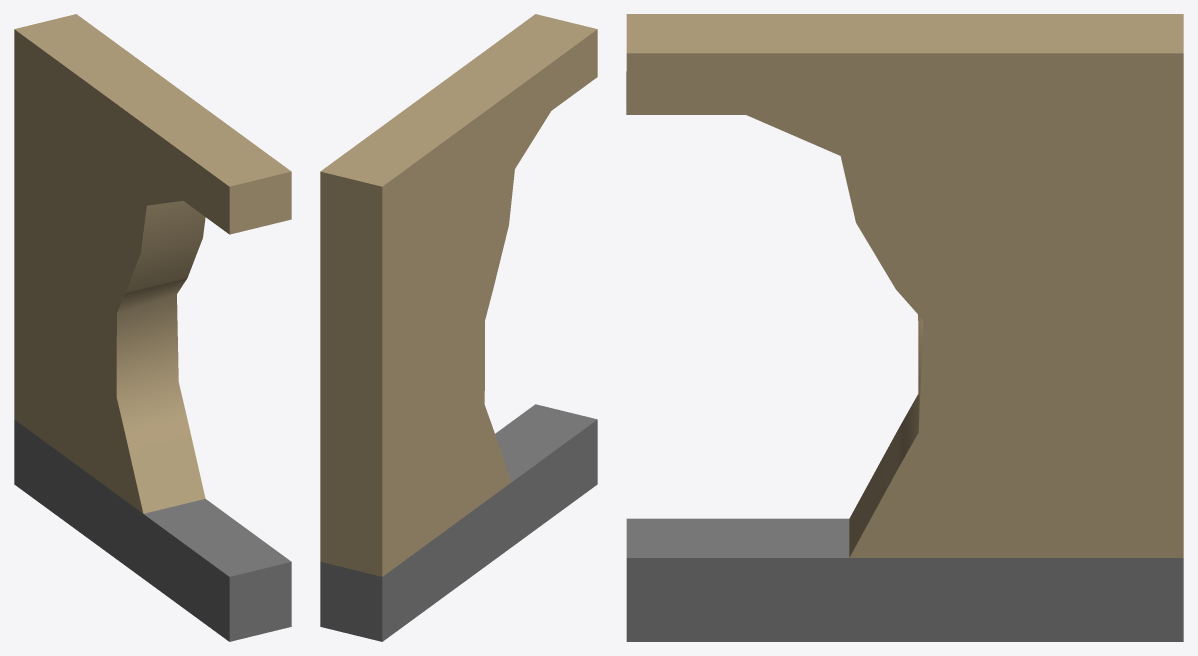
The model's file is WallBroken.fbx.
3 renders of one model, left to right at view 1: azimuth 30°, elevation 25°; view 2: azimuth 150°, elevation 25°; view 3: azimuth 270°, elevation 25°, orthographic. The views are drawn at different scales.
Visible parts, largest first — view 1: Box001; view 2: Box001; view 3: Box001.
Boxes of the visible parts, bbox=[...] form: Box001: bbox=[14, 14, 291, 641]; Box001: bbox=[320, 14, 597, 641]; Box001: bbox=[626, 14, 1183, 641].
Bounding box in the file's own units: 50 × 350 × 300.
